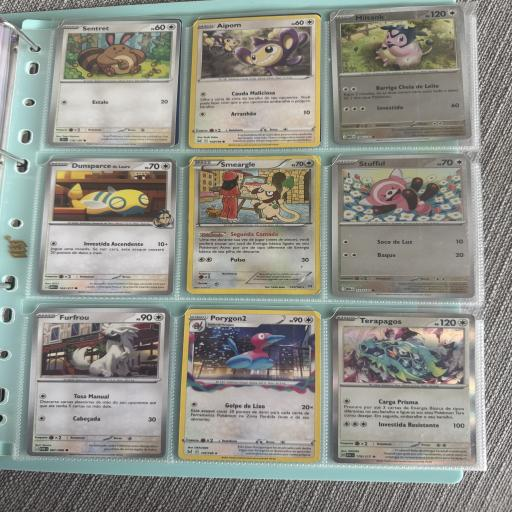card: (178, 307, 324, 462), (332, 311, 477, 466), (26, 307, 171, 457), (331, 154, 475, 299), (329, 5, 472, 145), (37, 158, 177, 295), (186, 155, 322, 294), (188, 14, 321, 149), (47, 19, 180, 148)
